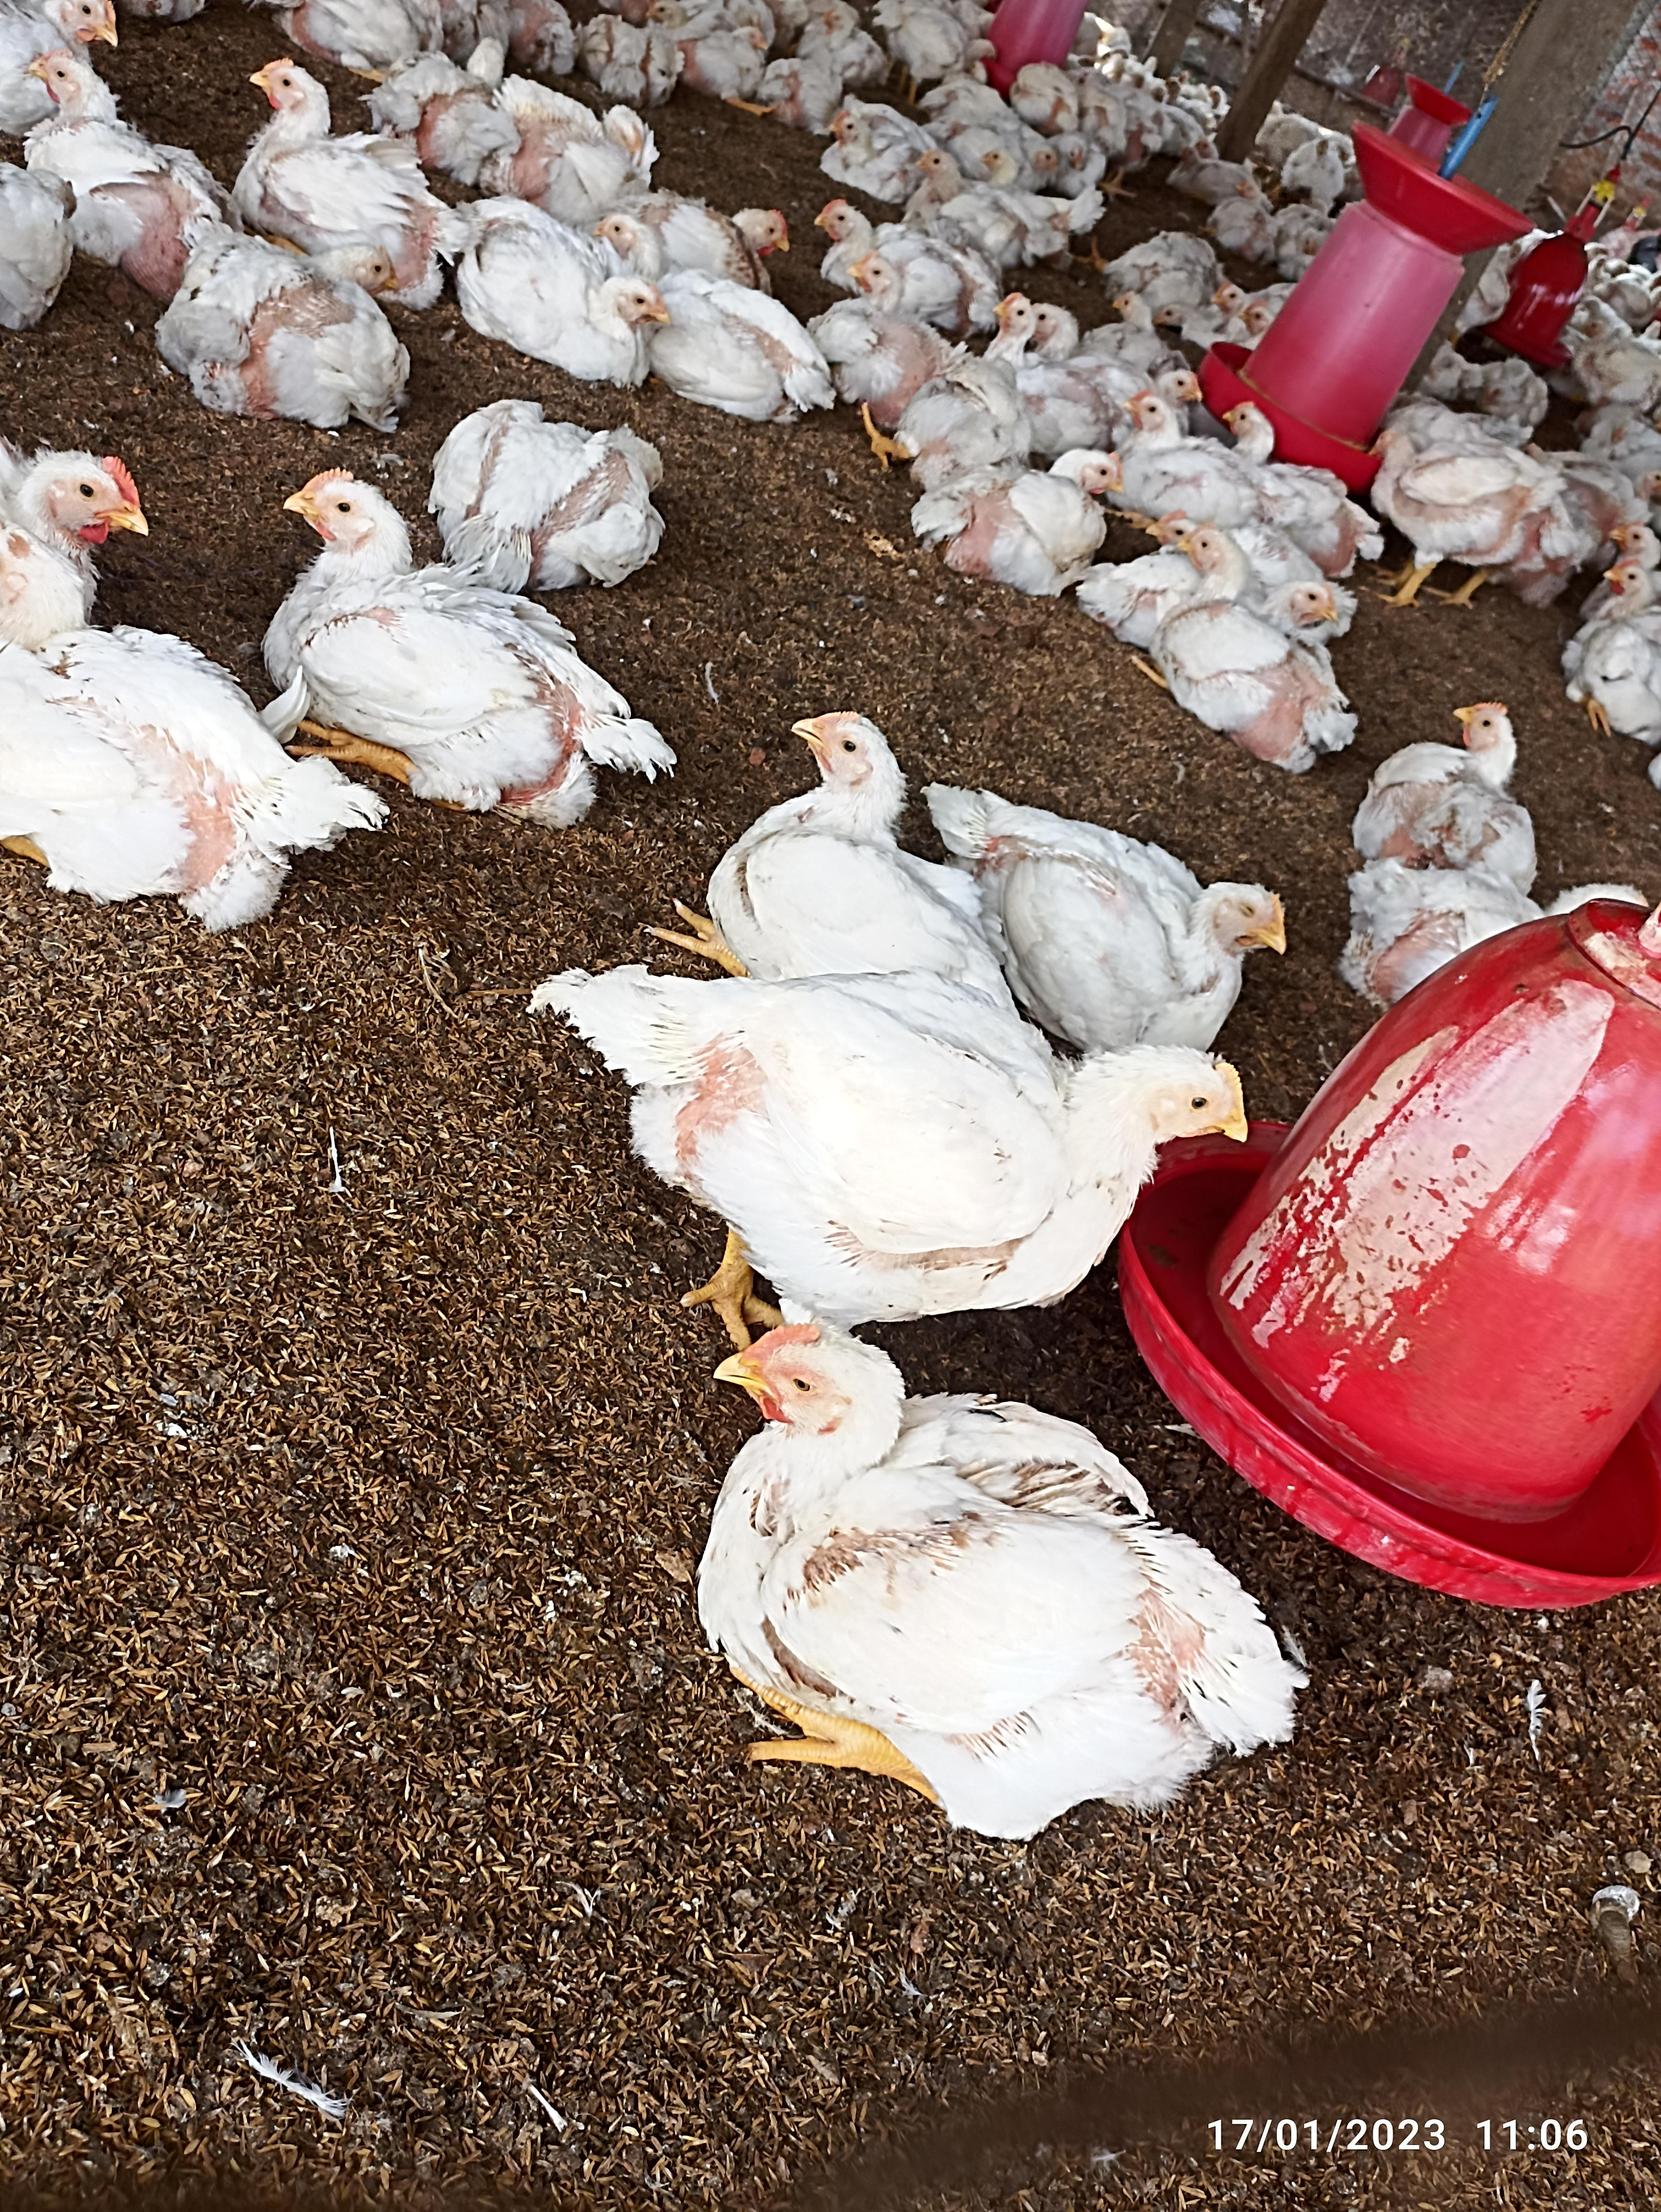Pollos: (703, 1322, 1293, 1800), (551, 954, 1244, 1308), (0, 455, 305, 907), (276, 473, 635, 802), (1003, 799, 1281, 1038), (721, 708, 988, 944), (171, 220, 400, 445), (440, 394, 680, 590), (236, 51, 443, 274), (1350, 691, 1549, 870), (33, 47, 194, 263), (468, 209, 653, 384), (1392, 387, 1534, 600), (1188, 574, 1350, 748), (935, 448, 1125, 579), (660, 274, 825, 419), (818, 199, 993, 314), (1115, 384, 1263, 513), (642, 199, 785, 267)
